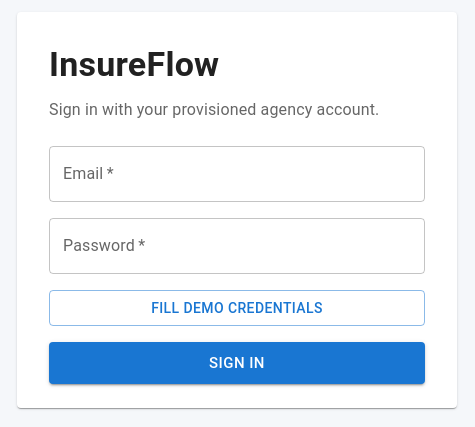
Test case: demo fill does not submit or sign in
Click the button "Fill demo credentials" at (237, 308), box [49, 290, 425, 326]
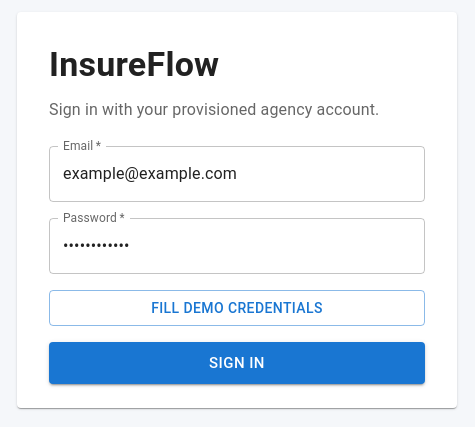
Check: the field labelled "Email *" holds "example@example.com", box [49, 146, 425, 202]
Check: the password field labelled "Password *" holds "fixture-only", box [49, 218, 425, 274]
